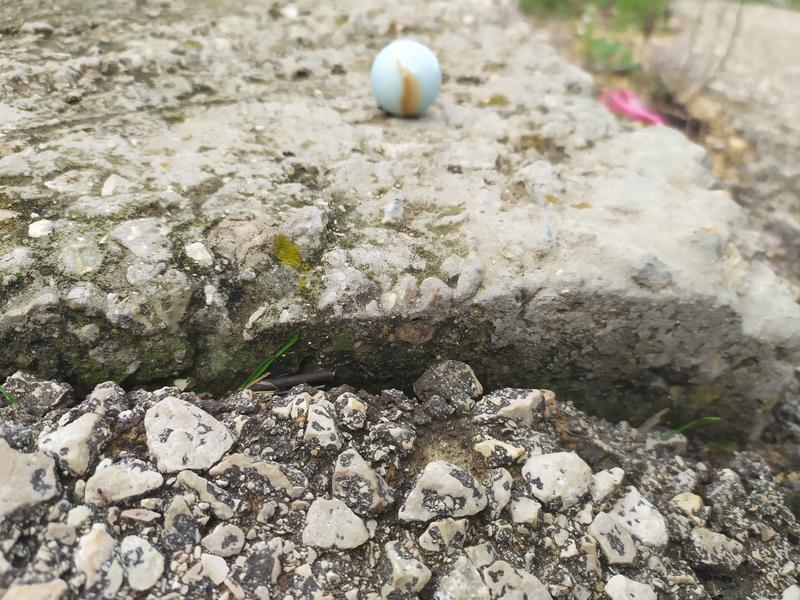Warning: (368, 36, 445, 121)
